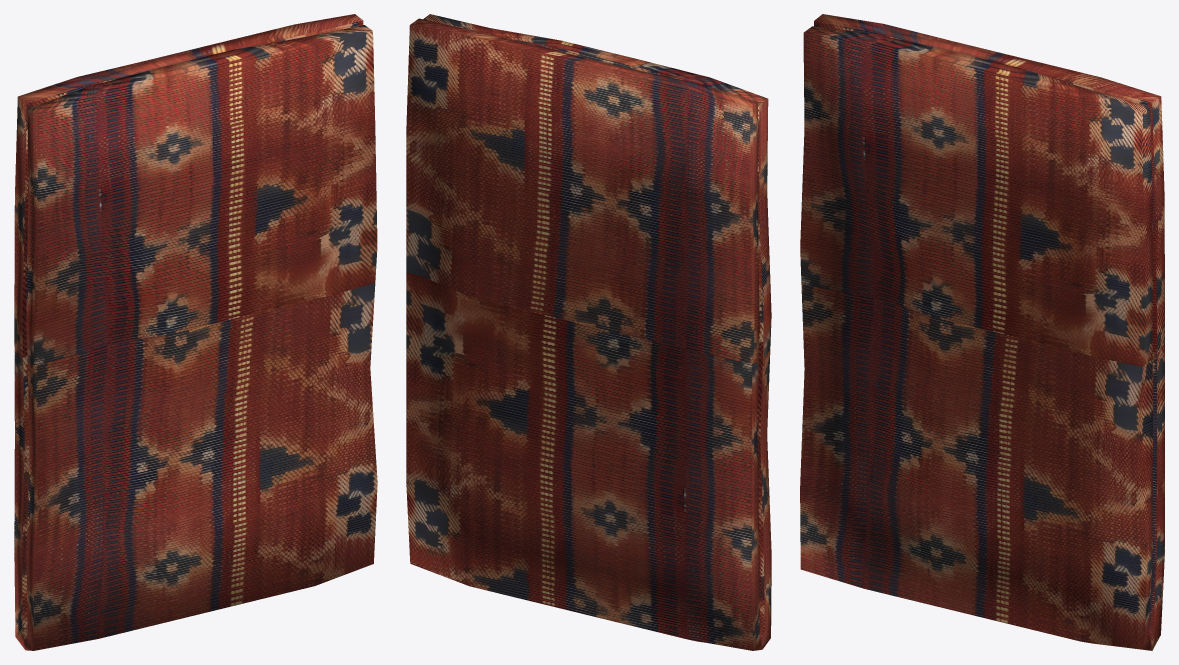
File: kain tenun3.fbx
3 views of the same model, side by side, from view 1: azimuth 30°, elevation 25°; view 2: azimuth 150°, elevation 25°; view 3: azimuth 330°, elevation 25° (orthographic).
Parts seen in each view (by area): view 1: Object_3; view 2: Object_3; view 3: Object_3.
Boxes of the visible parts, left/top/right/bottom form: Object_3: left=14, top=14, right=377, bottom=650; Object_3: left=406, top=14, right=771, bottom=650; Object_3: left=800, top=14, right=1164, bottom=650.
Size of the model in its own units: 2454 by 3802 by 280.
